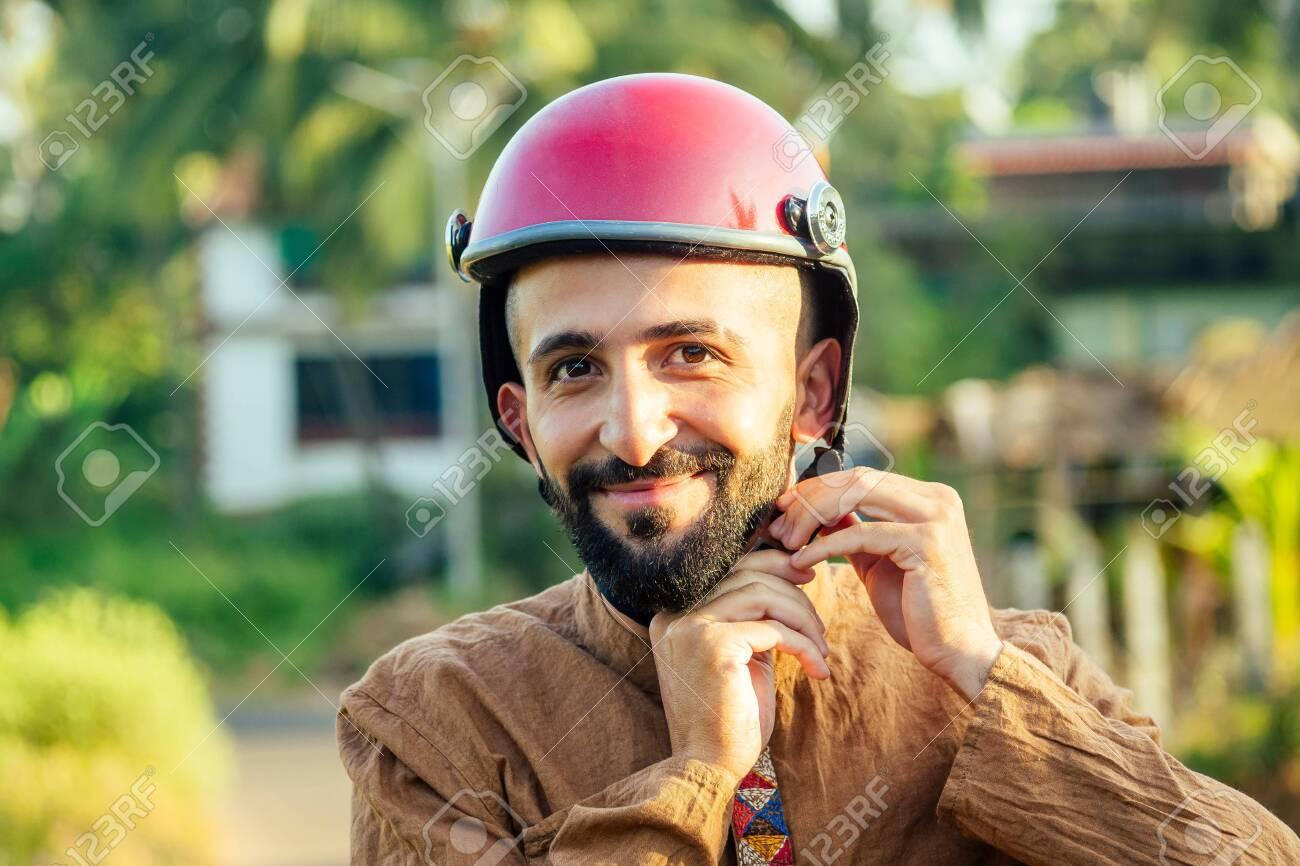Helmet: (464, 76, 941, 618)
